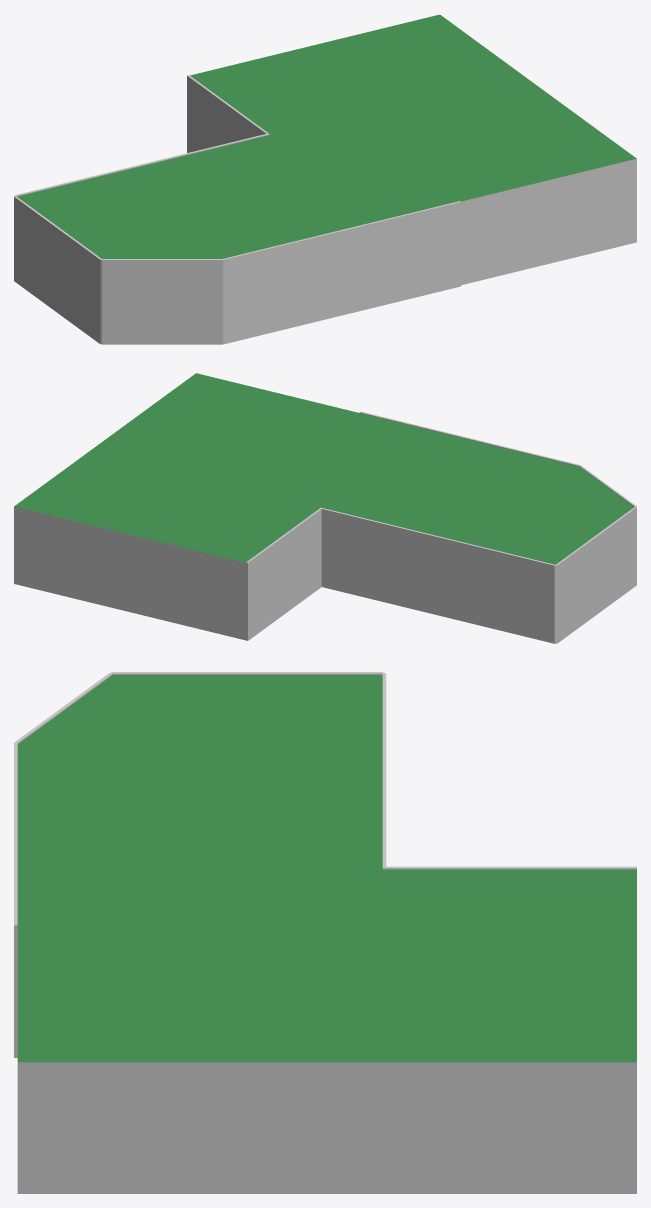
Rendered from quais2.fbx.
The picture shows the model from 3 angles, top to bottom: view 1: azimuth 30°, elevation 25°; view 2: azimuth 150°, elevation 25°; view 3: azimuth 270°, elevation 25°; orthographic projection. The views are drawn at different scales.
Parts seen in each view (by area): view 1: quais2; view 2: quais2; view 3: quais2.
Part boxes in pixels (<box>): quais2: <box>14,14,636,344</box>; quais2: <box>14,373,636,643</box>; quais2: <box>14,672,636,1193</box>.
Size of the model in its own units: 900 by 144 by 610.
